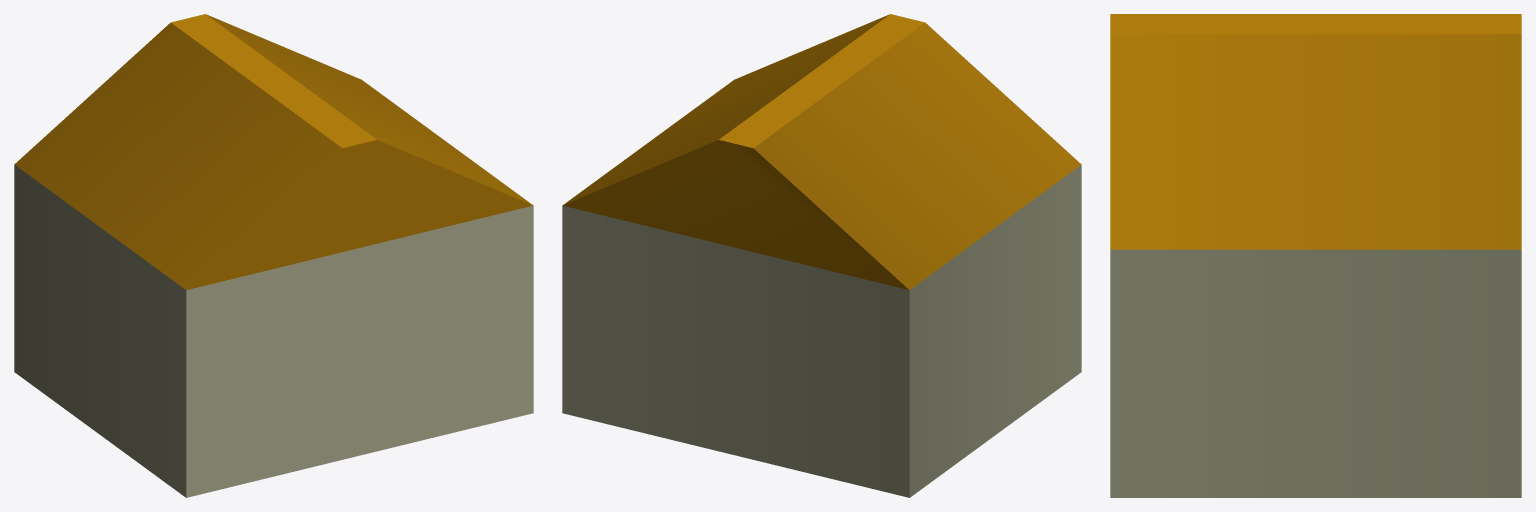
The model's file is hangar-low.glb.
3 renders of one model, left to right at view 1: azimuth 30°, elevation 25°; view 2: azimuth 150°, elevation 25°; view 3: azimuth 270°, elevation 25°, orthographic. The views are drawn at different scales.
Visible parts, largest first — view 1: mesh0; view 2: mesh0; view 3: mesh0.
Boxes of the visible parts, box(x1,y1,x2,y2) form: mesh0: box(14, 14, 533, 497); mesh0: box(562, 14, 1081, 497); mesh0: box(1110, 14, 1521, 497).
Size of the model in its own units: 0.7 by 0.6 by 0.6.
